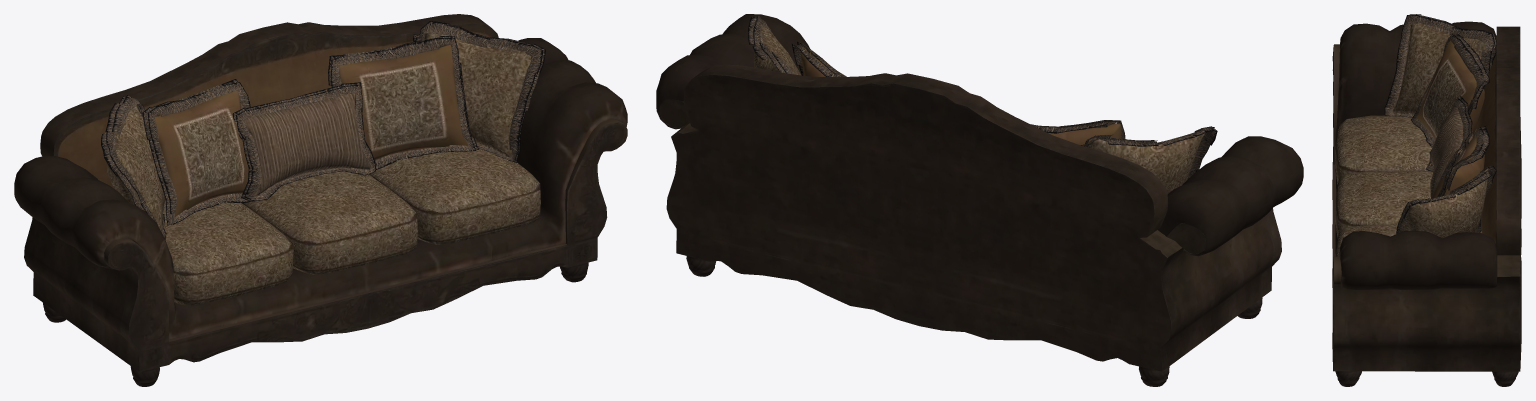
Rendered from sofa_03.glb.
3 renders of one model, left to right at view 1: azimuth 30°, elevation 25°; view 2: azimuth 150°, elevation 25°; view 3: azimuth 270°, elevation 25°, orthographic. The views are drawn at different scales.
Visible parts, largest first — view 1: sofa_03; view 2: sofa_03; view 3: sofa_03.
Boxes of the visible parts, x1=… form: sofa_03: x1=14, y1=14, x2=627, y2=386; sofa_03: x1=656, y1=14, x2=1303, y2=386; sofa_03: x1=1332, y1=14, x2=1521, y2=386.
Bounding box in the file's own units: 2.73 × 1.12 × 0.925.
Materials: 2 (2 with a texture image).
